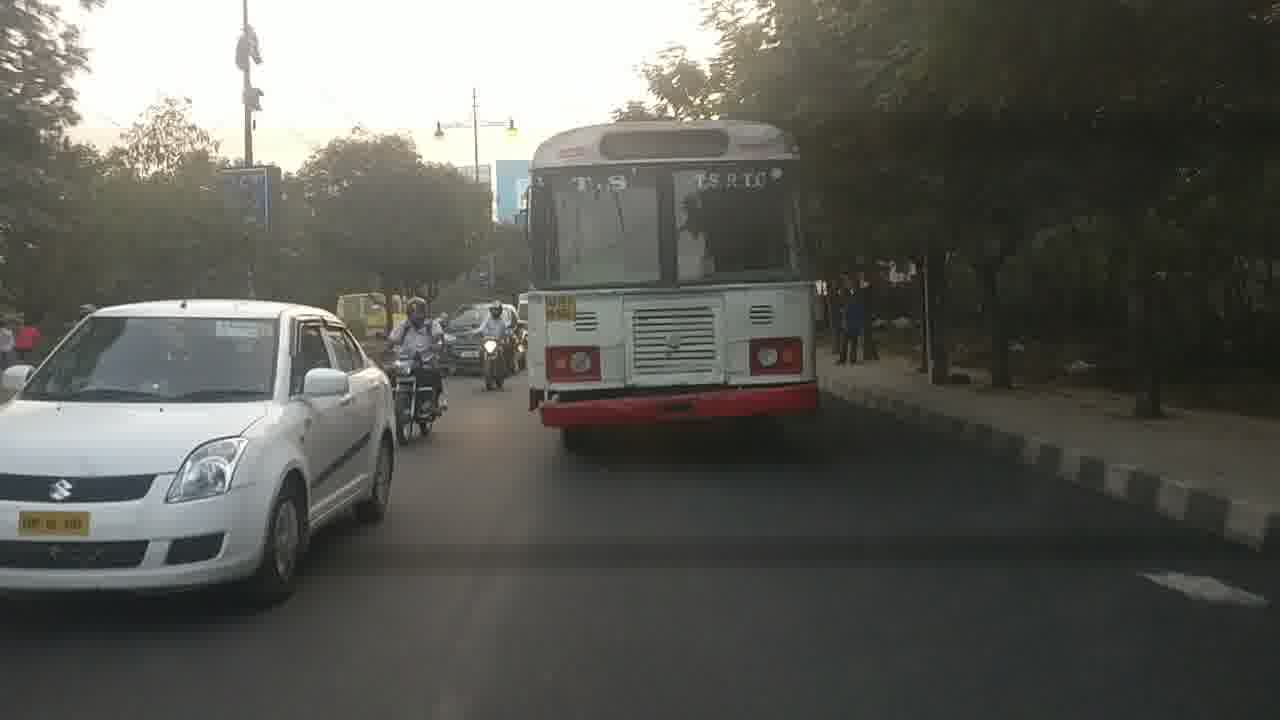swift desire: (6, 300, 389, 583)
